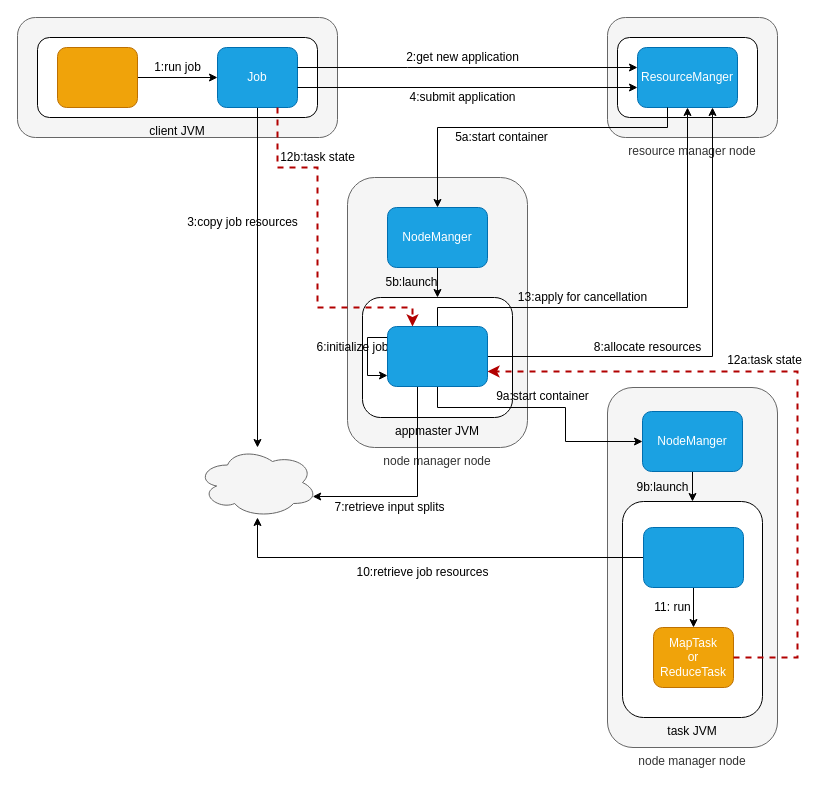
This 827x786 diagram has some shape labels left out. Here are the shapes that lost their labels. From the top down, the box of each, then its label:
(56, 46, 138, 108): MapReduce program
(16, 16, 338, 138): client node
(386, 326, 488, 386): MRAppMaster
(196, 446, 318, 518): HDFS
(642, 526, 744, 588): YarnChild
